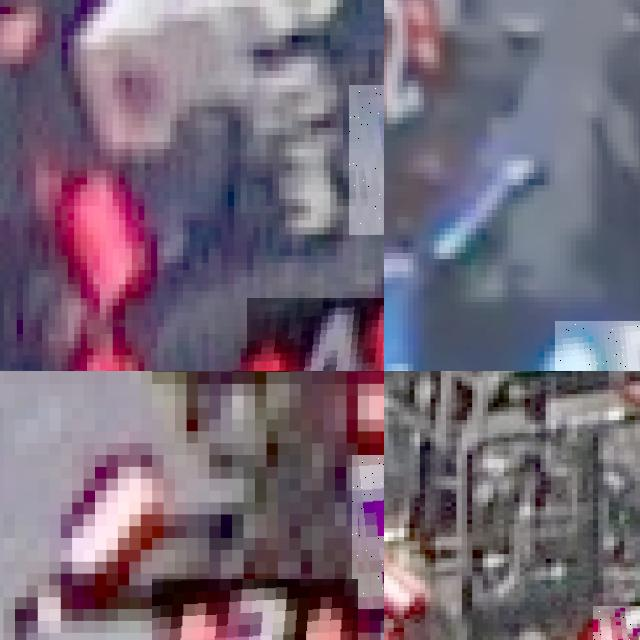B5: (554, 320, 640, 371)
R2: (593, 606, 640, 640)
R3: (152, 579, 357, 640), (352, 455, 384, 609)
R4: (247, 298, 384, 371), (349, 85, 384, 234)
